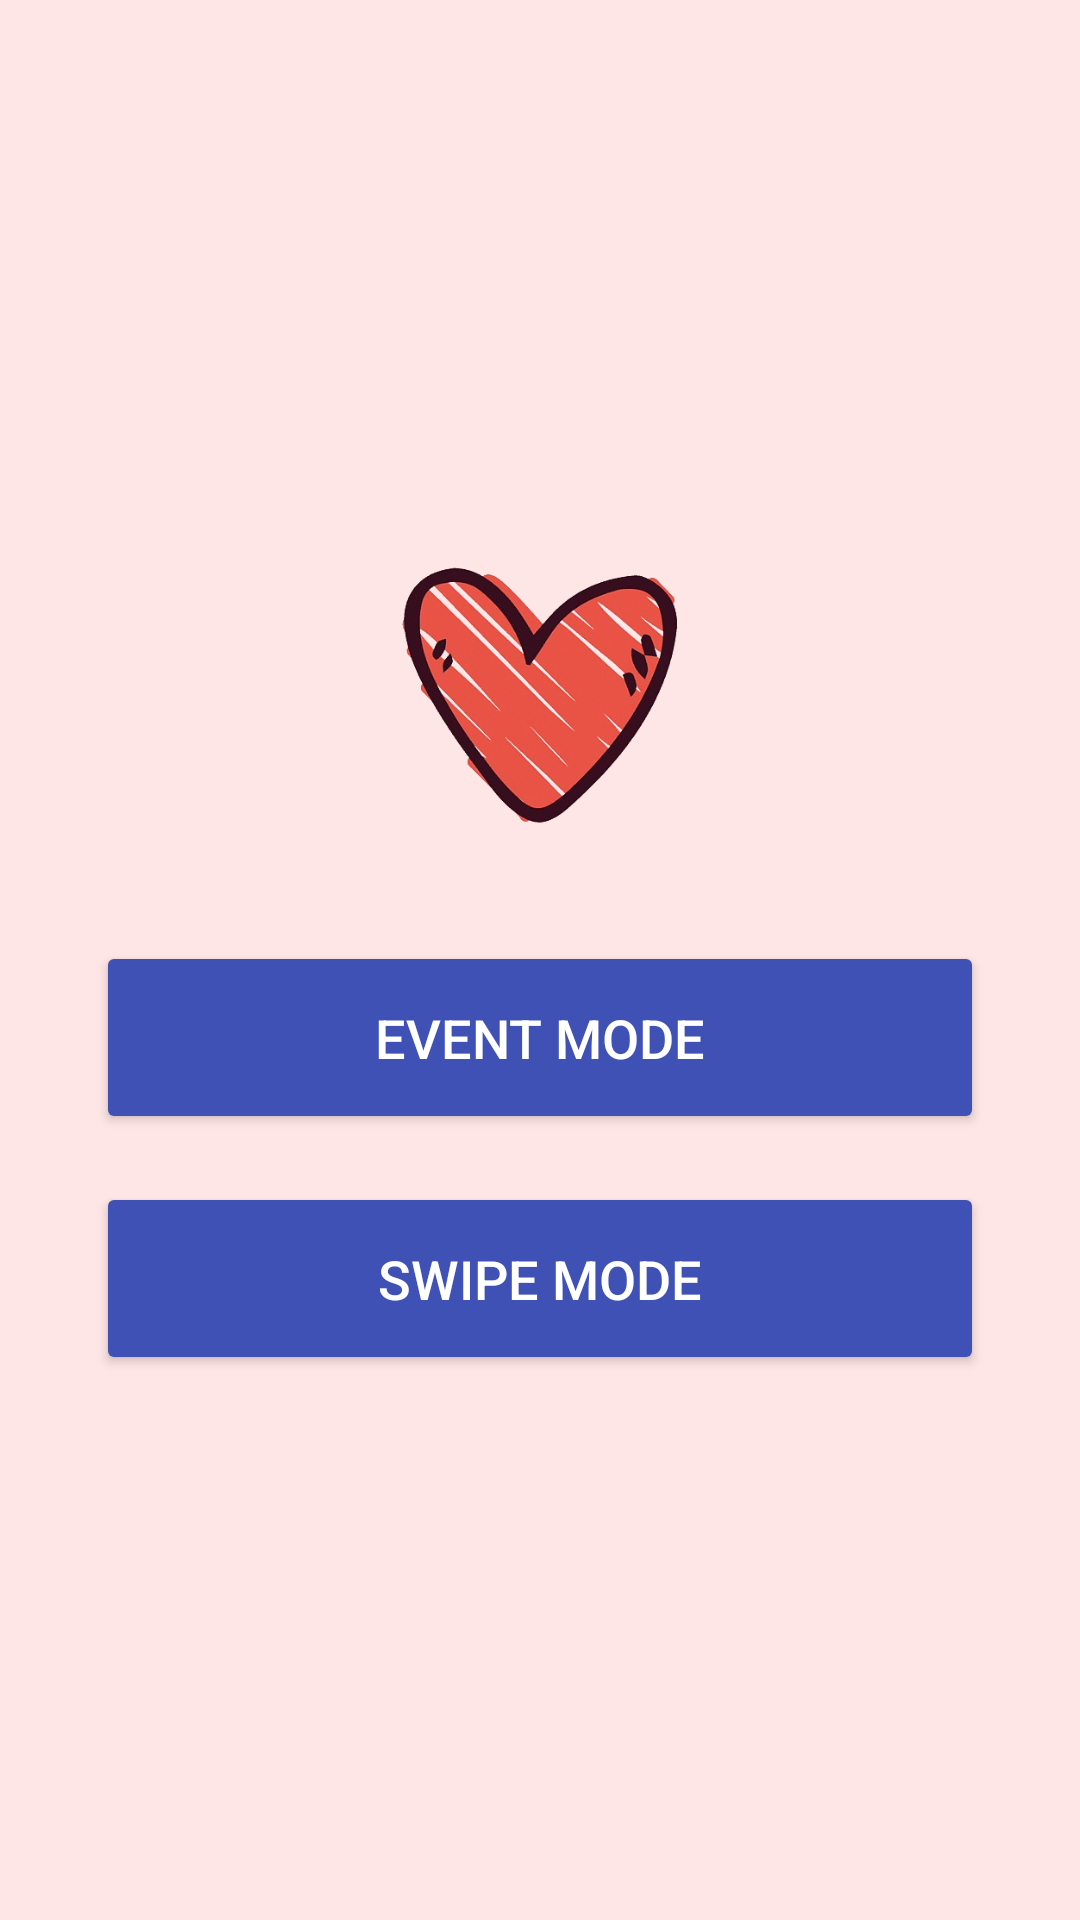

Where icons sit on this 1080 × 1920 app screen, as (x1, y1, x2, y2):
Heart Icon: (402, 567, 678, 823)
